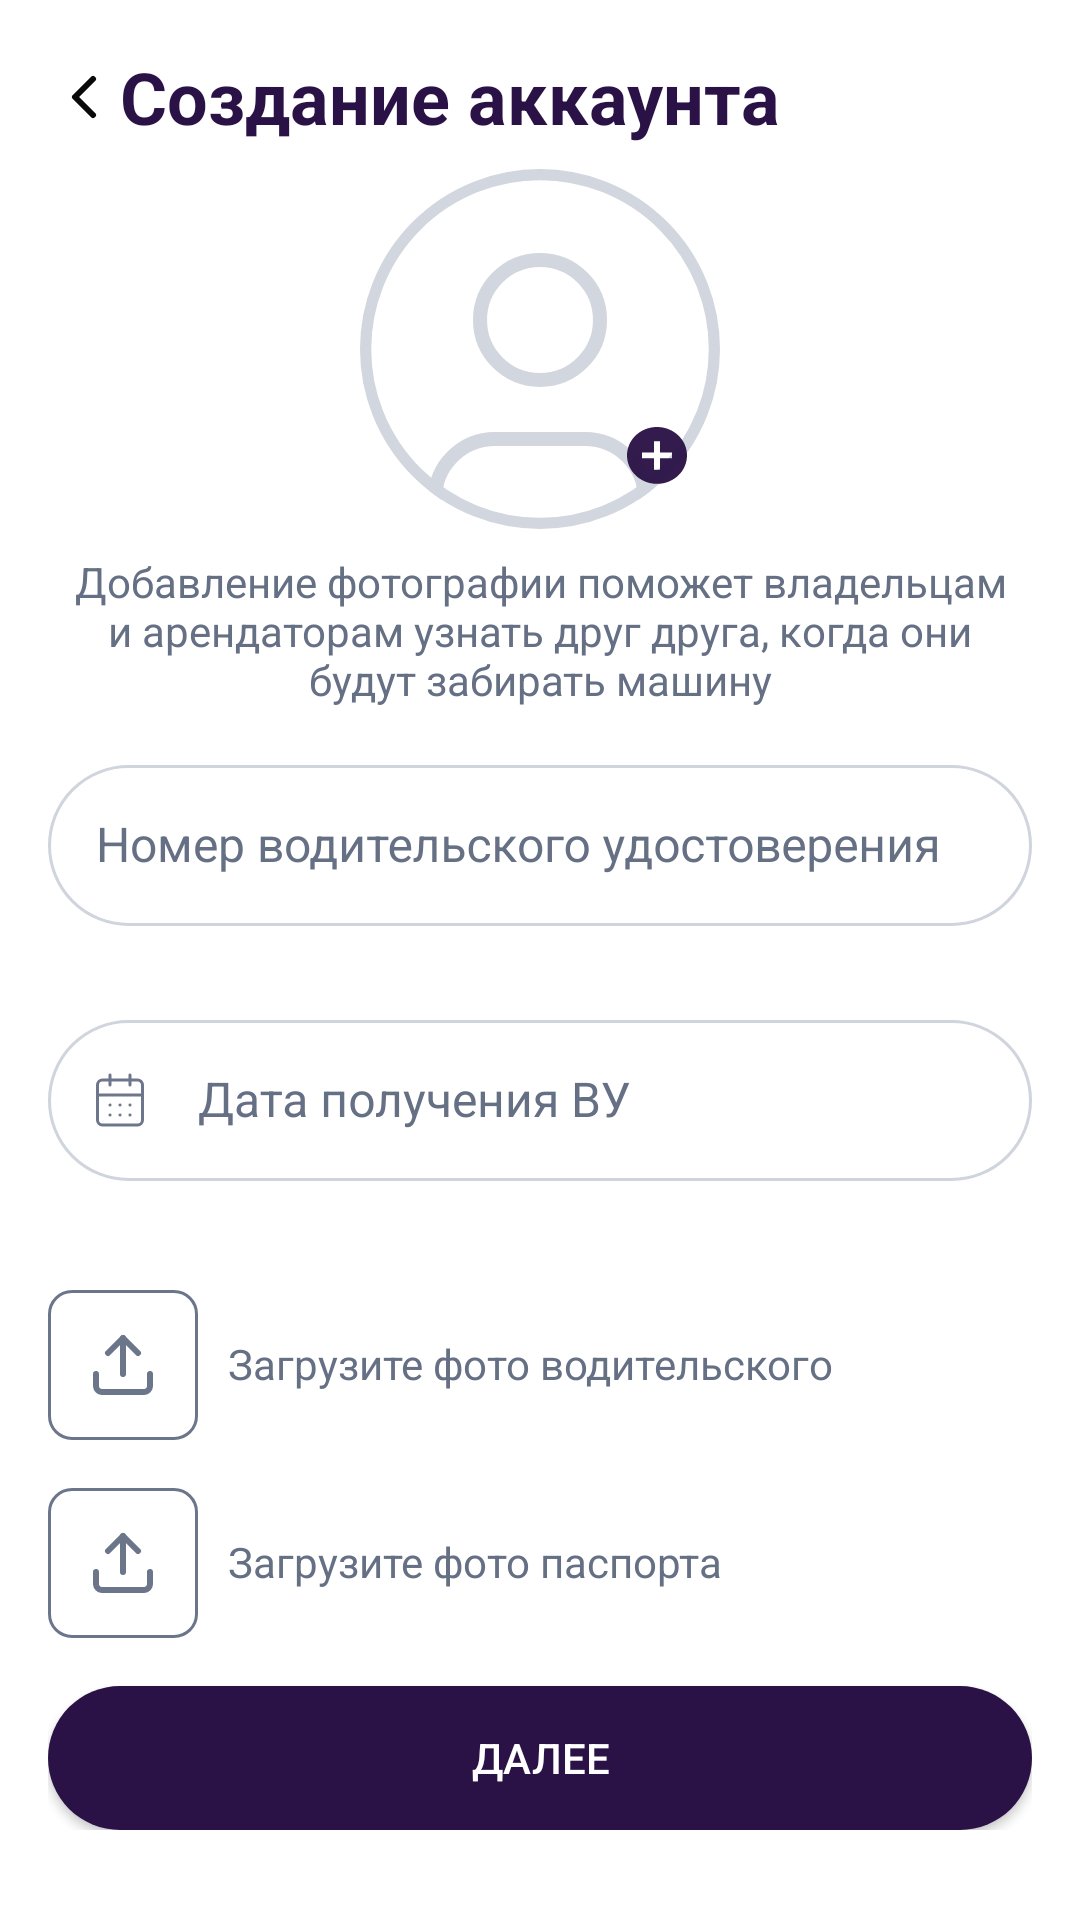

Icon click points for this 1080×1920 phone screenshot, format (x=x, y=y):
chevron left: (x=84, y=97)
upload: (x=123, y=1365), (x=123, y=1563)
